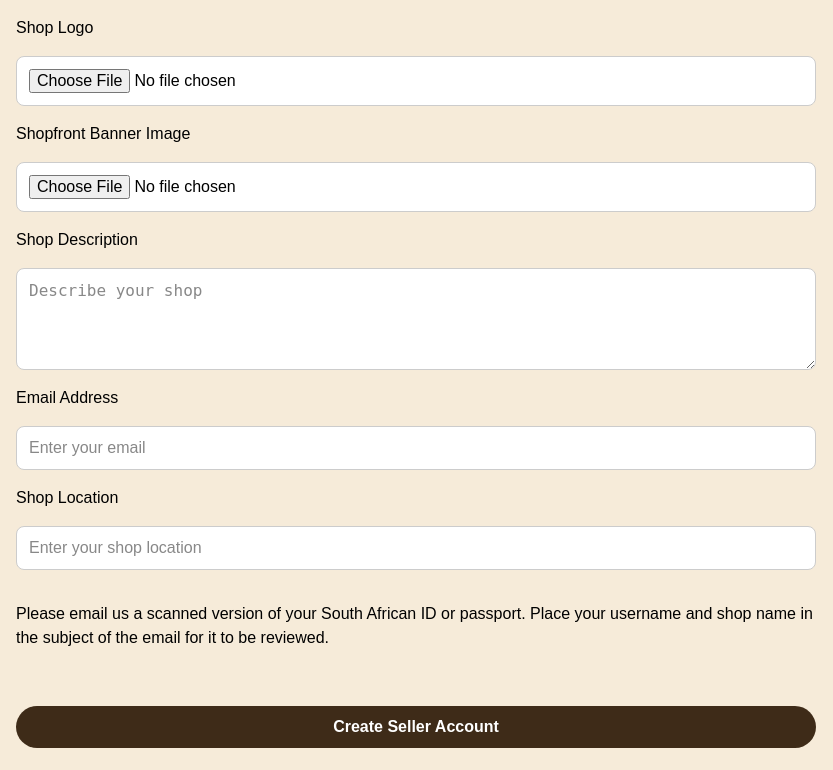
SellerSignup page › shows validation errors on empty submit
(page scrolled)
Click the button "Create Seller Account": (416, 728) top-left (16, 706), bottom-right (816, 748)
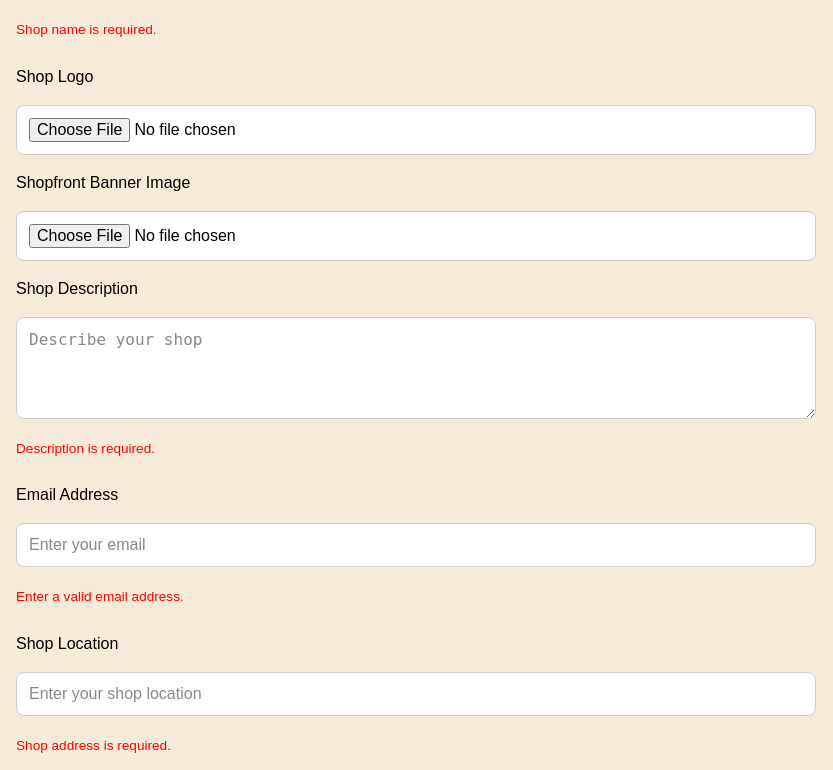
Result: the text "Shop name is required." is shown at top-left (16, 22), bottom-right (157, 38)
Result: the text "Description is required." is shown at top-left (16, 441), bottom-right (155, 456)
Result: the text "Shop address is required." is shown at top-left (16, 738), bottom-right (171, 753)
